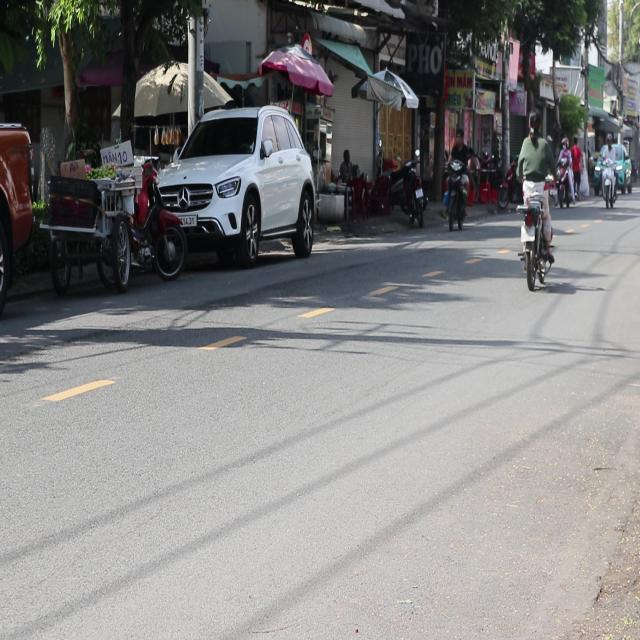licenseplate: (515, 107, 556, 289)
motorcyclist: (526, 108, 542, 137)
nohelmet: (521, 226, 534, 242)
